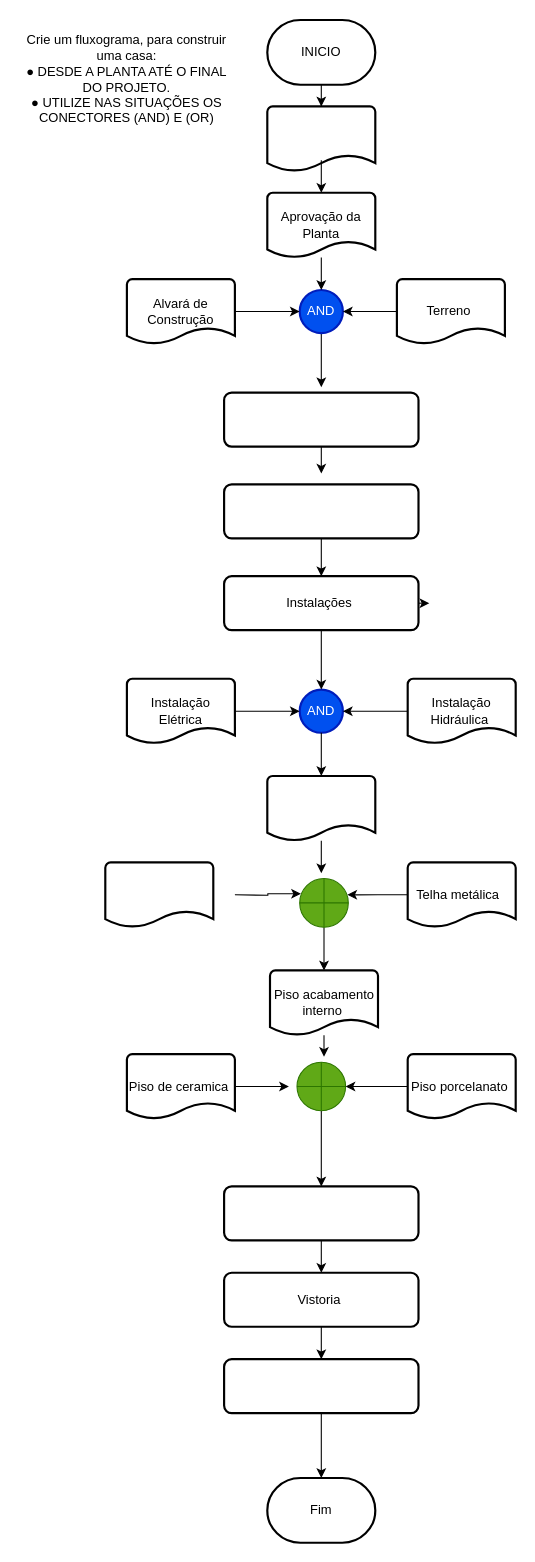
This 535x1562 diagram has some shape labels left out. Each missing label, with the box of its shape:
Elaborar a Planta: (266, 105, 376, 172)
Entrega da Obra: (222, 1358, 419, 1414)
Estrutura: (222, 483, 419, 539)
Fundação: (222, 391, 419, 447)
Pintura: (222, 1185, 419, 1241)
Telha de ceramica: (104, 861, 214, 928)
Telhado: (266, 774, 376, 841)
